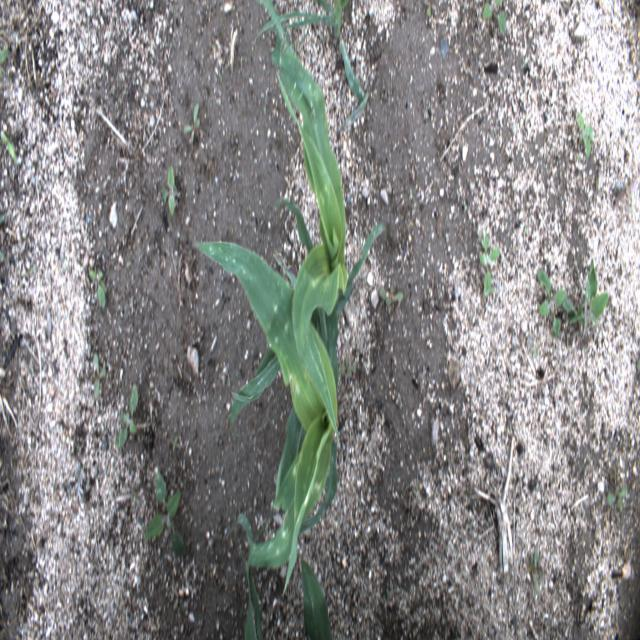crop: (255, 0, 385, 439), (194, 237, 339, 591), (281, 0, 373, 133), (302, 556, 332, 638), (241, 551, 264, 637)
weed: (144, 473, 187, 557), (562, 258, 609, 330), (534, 268, 566, 342), (114, 384, 138, 450), (480, 231, 501, 298), (182, 101, 204, 149), (162, 162, 180, 220), (374, 281, 405, 313), (482, 1, 506, 38), (527, 546, 544, 597), (578, 110, 594, 160), (88, 268, 107, 310), (92, 350, 106, 404), (605, 484, 628, 514), (2, 129, 17, 164), (0, 45, 10, 80)
